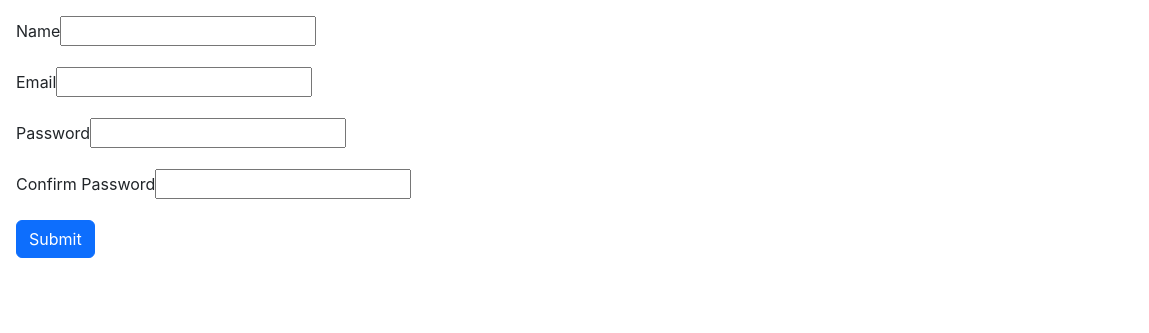
Scenario: App › submit button & error handling › should display correct error message when input email is not valid
Step 1. Type "john.doe" into the field labelled "Email" → (184, 82), box [56,67,312,97]
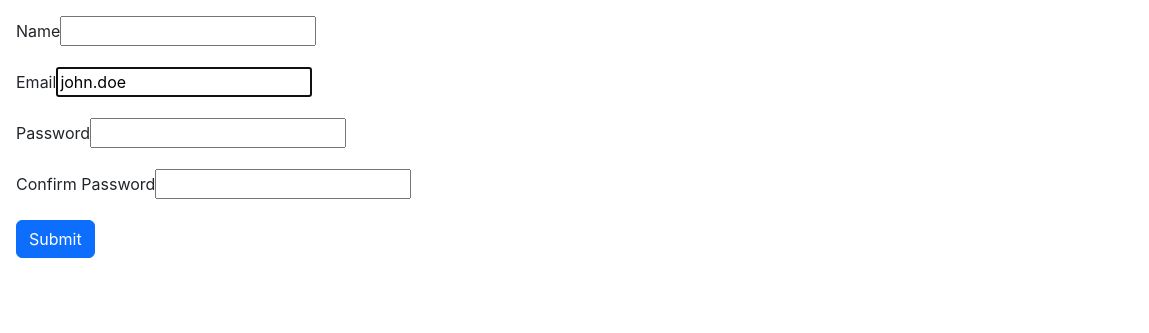
Step 2. Click the button → (55, 239), box [16,220,95,258]
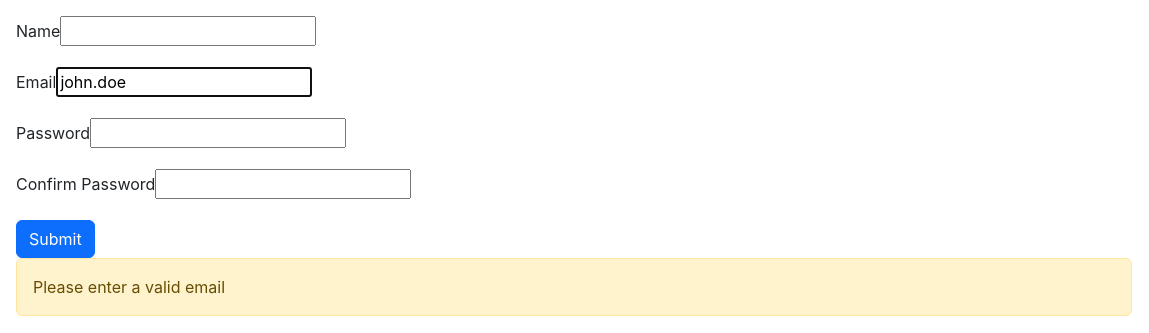
Expected: the text "Please enter a valid email" is shown, [16,258,1132,316]
